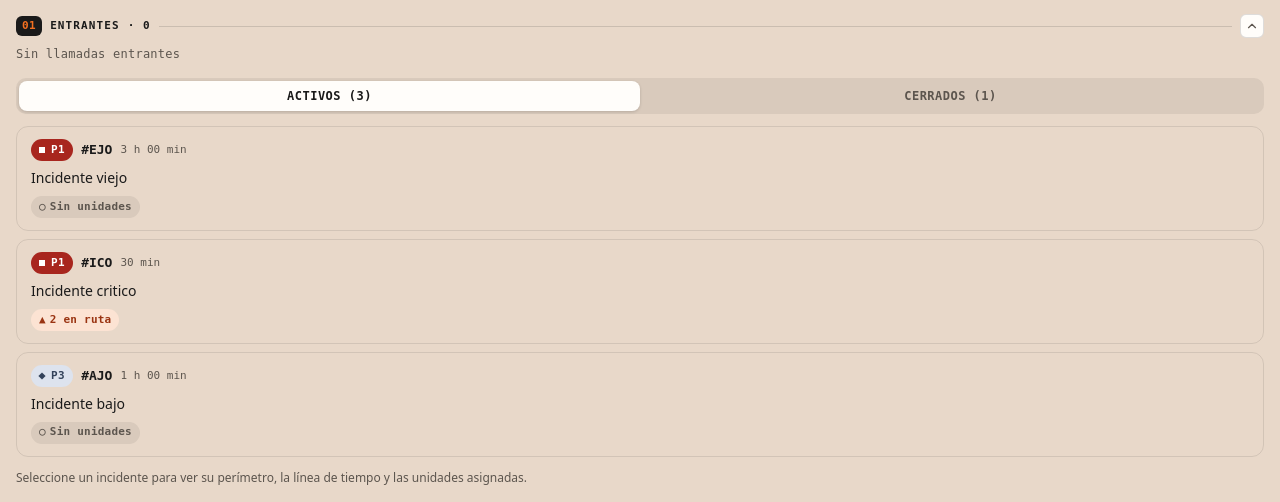
ColaIncidentes › la pestaña Cerrados muestra los resueltos, atenuados, y se puede volver a Activos
The width and height of the screenshot is (1280, 502).
Click the tab "Cerrados (1)" at (950, 96), box x1=640 y1=81 x2=1261 y2=111
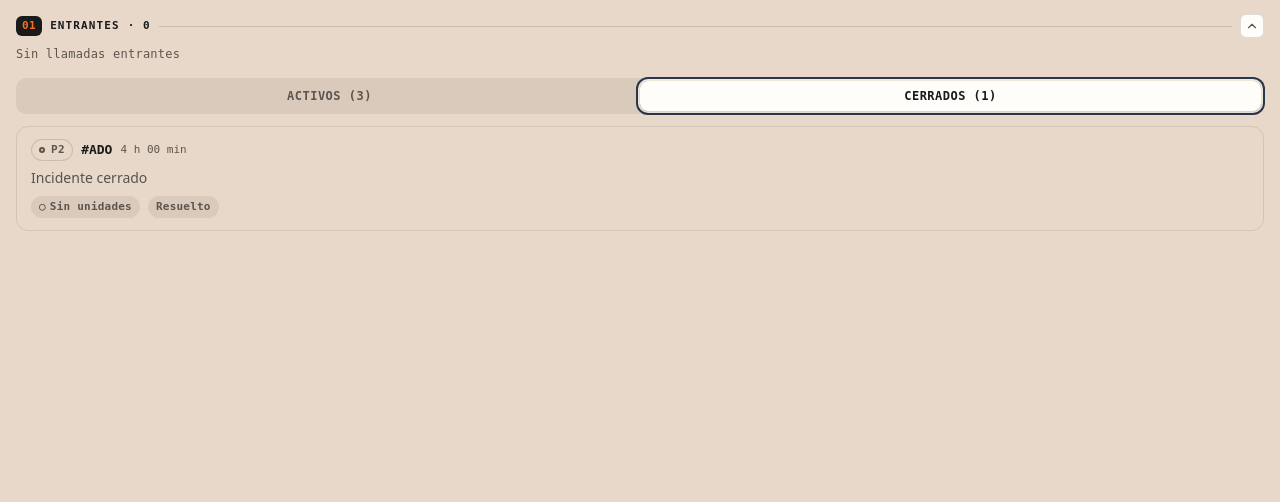
Now the number of list items is 1, box x1=16 y1=126 x2=1264 y2=231
Now the list item shows "Incidente cerrado", box x1=16 y1=126 x2=1264 y2=231
Now the list item shows "Resuelto", box x1=16 y1=126 x2=1264 y2=231
Click the tab "Activos (3)" at (330, 96), box x1=19 y1=81 x2=640 y2=111
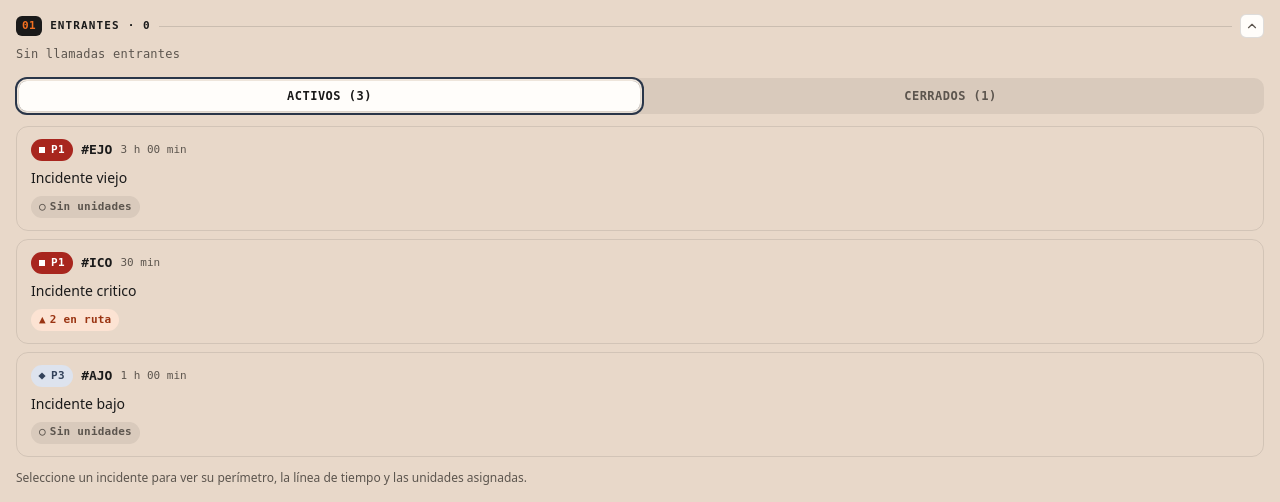
Now the number of list items is 3, box x1=16 y1=126 x2=1264 y2=231; x1=16 y1=239 x2=1264 y2=344; x1=16 y1=352 x2=1264 y2=457
